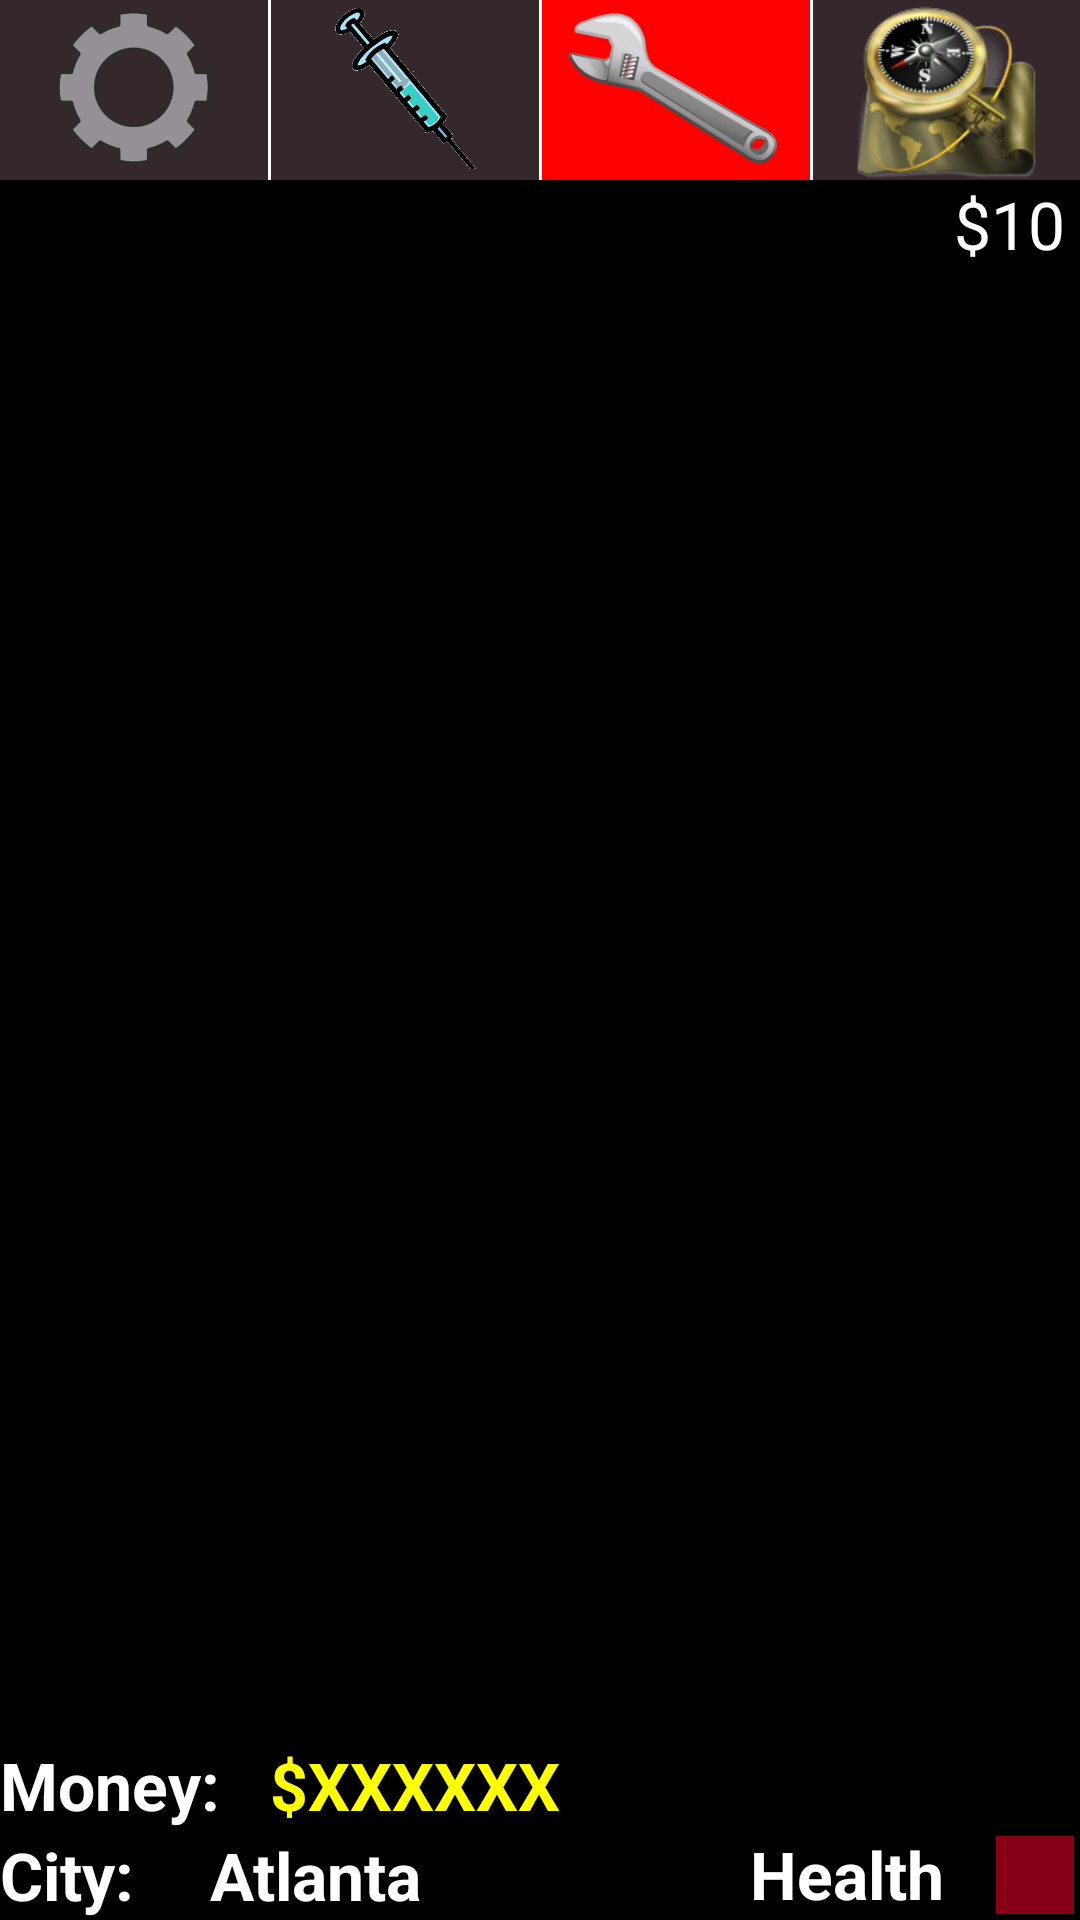

Screen size 1080 x 1920. Icon name, then its center in pixels as [x,y]:
gear: [134,90]
map: [946,90]
syringe: [405,90]
wrench: [676,90]
